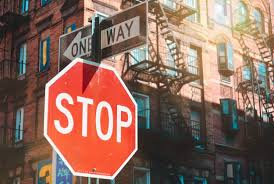stop sign: (43, 58, 139, 181)
